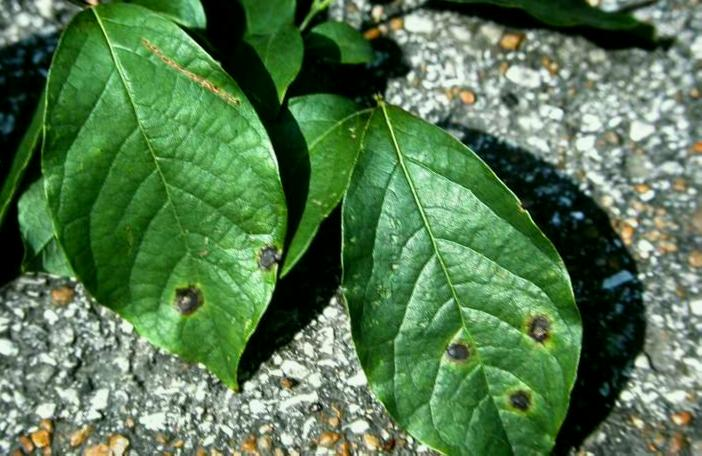Tomato leaf bacterial spot: (37, 1, 306, 402), (333, 99, 615, 456)
